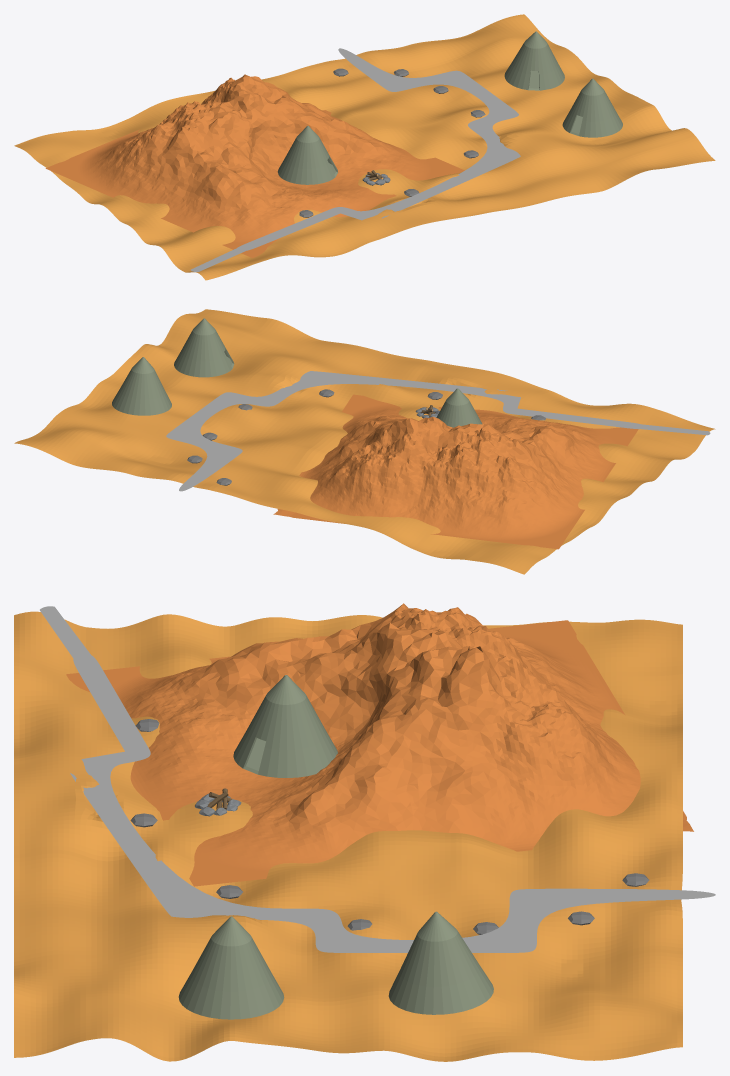
The model's file is map66.fbx.
3 views of the same model, one above another, from view 1: azimuth 30°, elevation 25°; view 2: azimuth 150°, elevation 25°; view 3: azimuth 270°, elevation 25° (orthographic). The views are drawn at different scales.
Parts seen in each view (by area): view 1: zemin, Landscape, yol, çadır.002, çadır.001, çadır; view 2: zemin, Landscape, yol, çadır.001, çadır.002, çadır; view 3: zemin, Landscape, yol, çadır.001, çadır.002, çadır.
Part boxes in pixels (left/top/right/bottom): zemin: left=14, top=14, right=715, bottom=280; Landscape: left=45, top=74, right=464, bottom=258; yol: left=191, top=48, right=520, bottom=271; çadır.002: left=504, top=31, right=564, bottom=90; çadır.001: left=562, top=78, right=622, bottom=137; çadır: left=277, top=126, right=337, bottom=184; zemin: left=14, top=309, right=715, bottom=574; Landscape: left=273, top=394, right=638, bottom=549; yol: left=166, top=371, right=710, bottom=491; çadır.001: left=174, top=318, right=234, bottom=377; çadır.002: left=112, top=357, right=171, bottom=415; çadır: left=436, top=388, right=482, bottom=427; zemin: left=14, top=611, right=682, bottom=1061; Landscape: left=66, top=603, right=693, bottom=886; yol: left=40, top=606, right=715, bottom=952; çadır.001: left=178, top=916, right=284, bottom=1019; çadır.002: left=388, top=911, right=493, bottom=1014; çadır: left=233, top=675, right=337, bottom=777.
Size of the model in its own units: 6080 by 866 by 4118.
